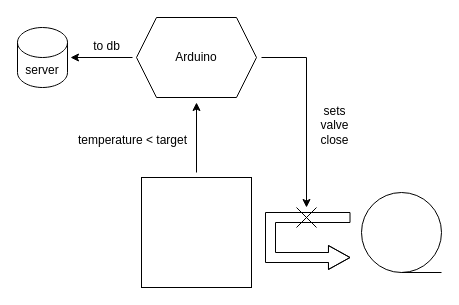
The diagram is 459 pixels wide and 305 high, and some of its shapes have lost their labels. The centre of each missing label's shape, as x and y in pixels:
"cooling pump" goes at (x=401, y=232).
"Tank" goes at (x=196, y=232).
